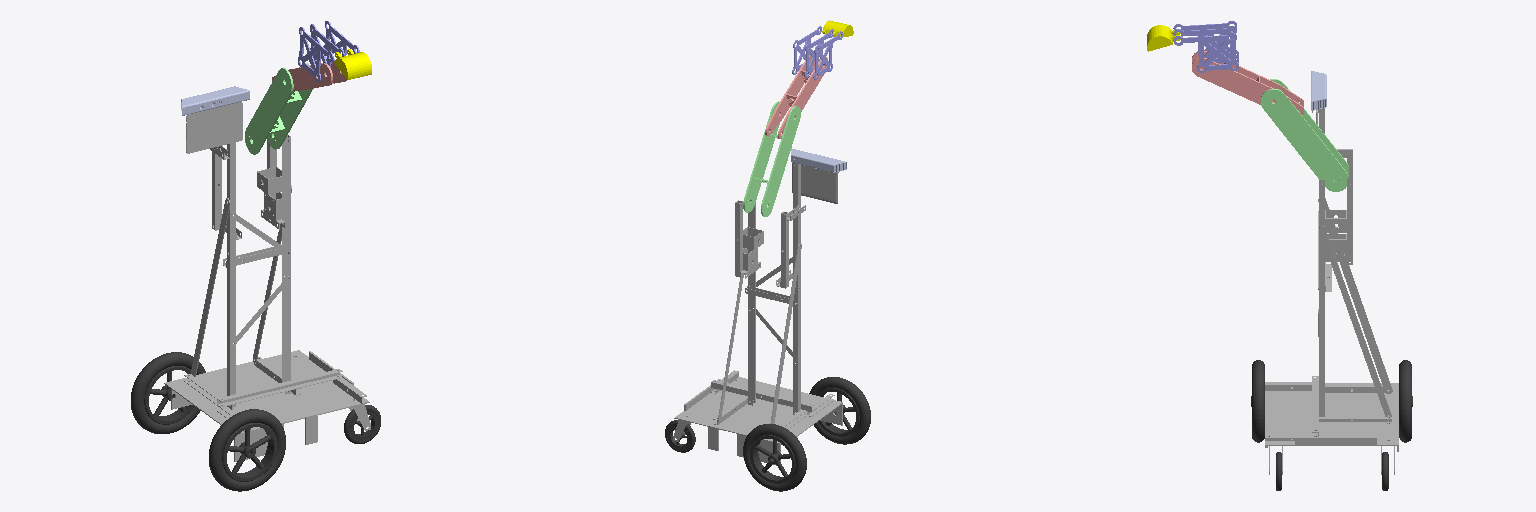
robot.urdf — fedar:

<robot
  name="fedar">
  <link
    name="base_link">
    <inertial>
      <origin
        xyz="-0.046264 0.28187 0.0076913"
        rpy="0 0 0" />
      <mass
        value="10.987" />
      <inertia
        ixx="1.7088"
        ixy="-0.16847"
        ixz="-0.0063516"
        iyy="0.42468"
        iyz="0.02647"
        izz="1.7946" />
    </inertial>
    <visual>
      <origin
        xyz="0 0 0"
        rpy="0 0 0" />
      <geometry>
        <mesh
          filename="package://fedar/meshes/base_link.STL" />
      </geometry>
      <material
        name="">
        <color
          rgba="0.75294 0.75294 0.75294 1" />
      </material>
    </visual>
    <collision>
      <origin
        xyz="0 0 0"
        rpy="0 0 0" />
      <geometry>
        <mesh
          filename="package://fedar/meshes/base_link.STL" />
      </geometry>
    </collision>
  </link>
  <link
    name="left_drive_wheel_link">
    <inertial>
      <origin
        xyz="-0.026967 5.5273E-10 -1.0367E-09"
        rpy="0 0 0" />
      <mass
        value="2.1634" />
      <inertia
        ixx="0.032586"
        ixy="2.9603E-12"
        ixz="9.9332E-11"
        iyy="0.016643"
        iyz="-1.5958E-10"
        izz="0.016643" />
    </inertial>
    <visual>
      <origin
        xyz="0 0 0"
        rpy="0 0 0" />
      <geometry>
        <mesh
          filename="package://fedar/meshes/left_drive_wheel_link.STL" />
      </geometry>
      <material
        name="">
        <color
          rgba="0.29412 0.29412 0.29412 1" />
      </material>
    </visual>
    <collision>
      <origin
        xyz="0 0 0"
        rpy="0 0 0" />
      <geometry>
        <mesh
          filename="package://fedar/meshes/left_drive_wheel_link.STL" />
      </geometry>
    </collision>
  </link>
  <joint
    name="left_drive_wheel_joint"
    type="continuous">
    <origin
      xyz="-0.24 -0.249 -0.055"
      rpy="1.5708 6.123E-17 1.5708" />
    <parent
      link="base_link" />
    <child
      link="left_drive_wheel_link" />
    <axis
      xyz="1 0 0" />
  </joint>
  <link
    name="right_drive_wheel_link">
    <inertial>
      <origin
        xyz="0.0270334407669869 5.52729494118775E-10 -1.03672306850378E-09"
        rpy="0 0 0" />
      <mass
        value="2.16344839685526" />
      <inertia
        ixx="0.0325861513561255"
        ixy="2.9603479359812E-12"
        ixz="9.93315789171524E-11"
        iyy="0.0166433812823134"
        iyz="-1.59581006700158E-10"
        izz="0.0166433811644508" />
    </inertial>
    <visual>
      <origin
        xyz="0 0 0"
        rpy="0 0 0" />
      <geometry>
        <mesh
          filename="package://fedar/meshes/right_drive_wheel_link.STL" />
      </geometry>
      <material
        name="">
        <color
          rgba="0.294117647058824 0.294117647058824 0.294117647058824 1" />
      </material>
    </visual>
    <collision>
      <origin
        xyz="0 0 0"
        rpy="0 0 0" />
      <geometry>
        <mesh
          filename="package://fedar/meshes/right_drive_wheel_link.STL" />
      </geometry>
    </collision>
  </link>
  <joint
    name="right_drive_wheel_joint"
    type="continuous">
    <origin
      xyz="-0.24 0.249 -0.055"
      rpy="1.5708 6.123E-17 1.5708" />
    <parent
      link="base_link" />
    <child
      link="right_drive_wheel_link" />
    <axis
      xyz="1 0 0" />
  </joint>
  <link
    name="left_trolley_wheel_bracket_link">
    <inertial>
      <origin
        xyz="0.0247635408908801 0.0818790644900511 -8.32667268468867E-17"
        rpy="0 0 0" />
      <mass
        value="0.0275781208850641" />
      <inertia
        ixx="4.49789834181829E-05"
        ixy="-1.24410071792927E-05"
        ixz="1.01594092944541E-20"
        iyy="2.08578618373714E-05"
        iyz="-1.97182783543518E-20"
        izz="4.21017425184769E-05" />
    </inertial>
    <visual>
      <origin
        xyz="0 0 0"
        rpy="0 0 0" />
      <geometry>
        <mesh
          filename="package://fedar/meshes/left_trolley_wheel_bracket_link.STL" />
      </geometry>
      <material
        name="">
        <color
          rgba="0.752941176470588 0.752941176470588 0.752941176470588 1" />
      </material>
    </visual>
    <collision>
      <origin
        xyz="0 0 0"
        rpy="0 0 0" />
      <geometry>
        <mesh
          filename="package://fedar/meshes/left_trolley_wheel_bracket_link.STL" />
      </geometry>
    </collision>
  </link>
  <joint
    name="left_trolley_wheel_bracket_joint"
    type="continuous">
    <origin
      xyz="0.22374 -0.21 -0.115"
      rpy="1.5708 0 0" />
    <parent
      link="base_link" />
    <child
      link="left_trolley_wheel_bracket_link" />
    <axis
      xyz="0 -1 0" />
  </joint>
  <link
    name="left_trolley_wheel_link">
    <inertial>
      <origin
        xyz="-0.0104923842827915 5.3143839329195E-10 1.28055210879552E-09"
        rpy="0 0 0" />
      <mass
        value="0.29264656535805" />
      <inertia
        ixx="0.000978801985309353"
        ixy="-4.80647721975069E-13"
        ixz="-3.6446409811643E-12"
        iyy="0.000502580759463228"
        iyz="-8.11291518075436E-12"
        izz="0.000502580756909004" />
    </inertial>
    <visual>
      <origin
        xyz="0 0 0"
        rpy="0 0 0" />
      <geometry>
        <mesh
          filename="package://fedar/meshes/left_trolley_wheel_link.STL" />
      </geometry>
      <material
        name="">
        <color
          rgba="0.294117647058824 0.294117647058824 0.294117647058824 1" />
      </material>
    </visual>
    <collision>
      <origin
        xyz="0 0 0"
        rpy="0 0 0" />
      <geometry>
        <mesh
          filename="package://fedar/meshes/left_trolley_wheel_link.STL" />
      </geometry>
    </collision>
  </link>
  <joint
    name="left_trolley_wheel_joint"
    type="continuous">
    <origin
      xyz="0.05151 0.01 0"
      rpy="0 -1.5708 0" />
    <parent
      link="left_trolley_wheel_bracket_link" />
    <child
      link="left_trolley_wheel_link" />
    <axis
      xyz="-1 0 0" />
  </joint>

  <link
    name="right_trolley_wheel_bracket_link">
    <inertial>
      <origin
        xyz="0.0135069472412436 -0.0331209355099489 -8.32667268468867E-17"
        rpy="0 0 0" />
      <mass
        value="0.0275781208850641" />
      <inertia
        ixx="4.49789834181828E-05"
        ixy="-1.24410071792927E-05"
        ixz="1.41074330389317E-20"
        iyy="2.08578618373713E-05"
        iyz="6.76613231629152E-21"
        izz="4.21017425184768E-05" />
    </inertial>
    <visual>
      <origin
        xyz="0 0 0"
        rpy="0 0 0" />
      <geometry>
        <mesh
          filename="package://fedar/meshes/right_trolley_wheel_bracket_link.STL" />
      </geometry>
      <material
        name="">
        <color
          rgba="0.752941176470588 0.752941176470588 0.752941176470588 1" />
      </material>
    </visual>
    <collision>
      <origin
        xyz="0 0 0"
        rpy="0 0 0" />
      <geometry>
        <mesh
          filename="package://fedar/meshes/right_trolley_wheel_bracket_link.STL" />
      </geometry>
    </collision>
  </link>
  <joint
    name="right_trolley_wheel_bracket_joint"
    type="continuous">
    <origin
      xyz="0.235 0.21 0"
      rpy="1.5708 0 0" />
    <parent
      link="base_link" />
    <child
      link="right_trolley_wheel_bracket_link" />
    <axis
      xyz="0 -1 0" />
  </joint>
  <link
    name="right_trolley_wheel_link">
    <inertial>
      <origin
        xyz="-0.0104923842827914 -5.31438337780799E-10 -1.28055210879552E-09"
        rpy="0 0 0" />
      <mass
        value="0.29264656535805" />
      <inertia
        ixx="0.000978801985309353"
        ixy="4.80647808889687E-13"
        ixz="3.64464071291266E-12"
        iyy="0.000502580759463228"
        iyz="-8.1129151113064E-12"
        izz="0.000502580756909004" />
    </inertial>
    <visual>
      <origin
        xyz="0 0 0"
        rpy="0 0 0" />
      <geometry>
        <mesh
          filename="package://fedar/meshes/right_trolley_wheel_link.STL" />
      </geometry>
      <material
        name="">
        <color
          rgba="0.294117647058824 0.294117647058824 0.294117647058824 1" />
      </material>
    </visual>
    <collision>
      <origin
        xyz="0 0 0"
        rpy="0 0 0" />
      <geometry>
        <mesh
          filename="package://fedar/meshes/right_trolley_wheel_link.STL" />
      </geometry>
    </collision>
  </link>
  <joint
    name="right_trolley_wheel_joint"
    type="continuous">
    <origin
      xyz="0.040253 -0.105 0"
      rpy="2.7485 1.5708 0" />
    <parent
      link="right_trolley_wheel_bracket_link" />
    <child
      link="right_trolley_wheel_link" />
    <axis
      xyz="1 0 0" />
  </joint>

  <link
    name="upper_arm_link">
    <inertial>
      <origin
        xyz="0.20011 2.857E-10 0.0065338"
        rpy="0 0 0" />
      <mass
        value="0.81497" />
      <inertia
        ixx="0.0021672"
        ixy="6.1685E-12"
        ixz="-1.3371E-11"
        iyy="0.01654"
        iyz="2.7308E-12"
        izz="0.015662" />
    </inertial>
    <visual>
      <origin
        xyz="0 0 0"
        rpy="0 0 0" />
      <geometry>
        <mesh
          filename="package://fedar/meshes/upper_arm_link.STL" />
      </geometry>
      <material
        name="">
        <color
          rgba="0.69804 1 0.69804 1" />
      </material>
    </visual>
    <collision>
      <origin
        xyz="0 0 0"
        rpy="0 0 0" />
      <geometry>
        <mesh
          filename="package://fedar/meshes/upper_arm_link.STL" />
      </geometry>
    </collision>
  </link>
  <joint
    name="upper_arm_joint"
    type="revolute">
    <origin
      xyz="0 0.015 0.9915"
      rpy="1.5708 -0.94746 -1.5708" />
    <parent
      link="base_link" />
    <child
      link="upper_arm_link" />
    <axis
      xyz="0 0 1" />
    <limit
      effort="0"
      velocity="0"
      lower="-0.05"
      upper="1.435"
    />
  </joint>
  <link
    name="lower_arm_link">
    <inertial>
      <origin
        xyz="-0.090 0.390 0.028466"
        rpy="0 0 0" />
      <mass
        value="0.56692" />
      <inertia
        ixx="0.00081497"
        ixy="-3.907E-11"
        ixz="-4.0337E-18"
        iyy="0.0089538"
        iyz="-3.238E-18"
        izz="0.0087119" />
    </inertial>
    <visual>
      <origin
        xyz="-0.090 0.390 0.028466"
        rpy="0 0 0" />
      <geometry>
        <mesh
          filename="package://fedar/meshes/lower_arm_link.STL" />
      </geometry>
      <material
        name="">
        <color
          rgba="1 0.69804 0.69804 1" />
      </material>
    </visual>
    <collision>
      <origin
        xyz="-0.090 0.390 0.028466"
        rpy="0 0 0" />
      <geometry>
        <mesh
          filename="package://fedar/meshes/lower_arm_link.STL" />
      </geometry>
    </collision>
  </link>
  <joint
    name="lower_arm_joint"
    type="revolute">
    <origin
      xyz="0.4 0 0"
      rpy="-3.1416 7.8846E-16 -1.3449" />
    <parent
      link="upper_arm_link" />
    <child
      link="lower_arm_link" />
    <axis
      xyz="0 0 -1" />
    <limit
      effort="0"
      velocity="0"
      lower="0.1198"
      upper="1.6"
    />
  </joint>
  <link
    name="wrist_link">
    <inertial>
      <origin
        xyz="-0.534 0.1385 -0.035"
        rpy="0 0 0" />
      <mass
        value="0.25868" />
      <inertia
        ixx="0.0013374"
        ixy="-0.00017264"
        ixz="1.3162E-06"
        iyy="0.0010488"
        iyz="1.7858E-06"
        izz="0.0014236" />
    </inertial>
    <visual>
      <origin
        xyz="-0.534 0.1385 -0.035"
        rpy="0 0 0" />
      <geometry>
        <mesh
          filename="package://fedar/meshes/wrist_link.STL" />
      </geometry>
      <material
        name="">
        <color
          rgba="0.69804 0.69804 1 1" />
      </material>
    </visual>
    <collision>
      <origin
        xyz="-0.534 0.1385 -0.035"
        rpy="0 0 0" />
      <geometry>
        <mesh
          filename="package://fedar/meshes/wrist_link.STL" />
      </geometry>
    </collision>
  </link>
  <joint
    name="wrist_joint"
    type="revolute">
    <origin
      xyz="0.30 0 0"
      rpy="-3.1416 0 -1.0395" />
    <parent
      link="lower_arm_link" />
    <child
      link="wrist_link" />
    <axis
      xyz="0 0 1" />
    <limit
      effort="0"
      velocity="0"
      lower="-1.2"
      upper="0.57"
    />
  </joint>
  <link
    name="scoop_link">
    <inertial>
      <origin
        xyz="0.057 -0.687 0.03"
        rpy="0 0 0" />
      <mass
        value="0.12076" />
      <inertia
        ixx="0.00017125"
        ixy="-1.4964E-05"
        ixz="1.4017E-07"
        iyy="0.00029604"
        iyz="-3.6776E-08"
        izz="0.00017855" />
    </inertial>
    <visual>
      <origin
        xyz="0.057 -0.687 0.03"
        rpy="0 0 0" />
      <geometry>
        <mesh
          filename="package://fedar/meshes/scoop_link.STL" />
      </geometry>
      <material
        name="">
        <color
          rgba="1 1 0 1" />
      </material>
    </visual>
    <collision>
      <origin
        xyz="0.057 -0.687 0.03"
        rpy="0 0 0" />
      <geometry>
        <mesh
          filename="package://fedar/meshes/scoop_link.STL" />
      </geometry>
    </collision>
  </link>
  <joint
    name="scoop_joint"
    type="revolute">
    <origin
      xyz="0.12 -0.08 0"
      rpy="3.1416 0 1.3313" />
    <parent
      link="wrist_link" />
    <child
      link="scoop_link" />
    <axis
      xyz="0 0 -1" />
    <limit
      lower="-1.8025"
      upper="2.5957"
      effort="0"
      velocity="0" />
  </joint>
  <link
    name="camera_link">
    <inertial>
      <origin
        xyz="0.00019514 0.018811 0.0010567"
        rpy="1.5708 0 1.5708" />
      <mass
        value="0.54554" />
      <inertia
        ixx="0.00022589"
        ixy="3.4601E-08"
        ixz="2.5661E-06"
        iyy="0.0028794"
        iyz="-1.4752E-07"
        izz="0.00279" />
    </inertial>
    <visual>
      <origin
        xyz="0 0 0"
        rpy="1.5708 0 1.5708" />
      <geometry>
        <mesh
          filename="package://fedar/meshes/camera_link.STL" />
      </geometry>
      <material
        name="">
        <color
          rgba="0.79216 0.81961 0.93333 1" />
      </material>
    </visual>
    <collision>
      <origin
        xyz="0 0 0"
        rpy="1.5708 0 1.5708" />
      <geometry>
        <mesh
          filename="package://fedar/meshes/camera_link.STL" />
      </geometry>
    </collision>
  </link>
  <joint
    name="camera_joint"
    type="fixed">
    <origin
      xyz="-0.25453 -0.05 1.204"
      rpy="0 0 -1.5708" />
    <parent
      link="base_link" />
    <child
      link="camera_link" />
    <axis
      xyz="0 0 0" />
  </joint>
</robot>

--- Render facts (derived) ---
The picture shows the robot from 3 angles, left to right: view 1: azimuth 30°, elevation 25°; view 2: azimuth 150°, elevation 25°; view 3: azimuth 270°, elevation 25°; orthographic projection.
Robot: fedar — 12 links, 11 joints (4 revolute, 6 continuous, 1 fixed); root link base_link; default pose: joints at zero except 1 at the middle of their limits (lower_arm_joint = 0.8599).
Links seen in each view (by area): view 1: base_link, left_drive_wheel_link, right_drive_wheel_link, upper_arm_link, wrist_link, camera_link, lower_arm_link, left_trolley_wheel_link, scoop_link; view 2: base_link, right_drive_wheel_link, upper_arm_link, left_drive_wheel_link, lower_arm_link, wrist_link, camera_link, right_trolley_wheel_link; view 3: base_link, upper_arm_link, wrist_link, lower_arm_link, left_drive_wheel_link, right_drive_wheel_link, camera_link, scoop_link.
Link boxes in pixels (x1,y1,x2,y2): base_link: [164, 102, 369, 461]; left_drive_wheel_link: [209, 409, 285, 491]; right_drive_wheel_link: [131, 352, 205, 433]; upper_arm_link: [245, 63, 313, 154]; wrist_link: [298, 21, 359, 81]; camera_link: [181, 86, 249, 115]; lower_arm_link: [272, 61, 346, 91]; left_trolley_wheel_link: [344, 405, 380, 443]; scoop_link: [334, 49, 371, 79]; base_link: [674, 163, 842, 465]; right_drive_wheel_link: [743, 424, 806, 491]; upper_arm_link: [743, 101, 800, 216]; left_drive_wheel_link: [809, 377, 870, 444]; lower_arm_link: [765, 55, 827, 138]; wrist_link: [792, 26, 842, 80]; camera_link: [791, 148, 846, 172]; right_trolley_wheel_link: [665, 420, 695, 452]; base_link: [1265, 108, 1398, 451]; upper_arm_link: [1260, 79, 1348, 191]; wrist_link: [1173, 21, 1238, 72]; lower_arm_link: [1192, 51, 1303, 114]; left_drive_wheel_link: [1251, 360, 1264, 442]; right_drive_wheel_link: [1399, 360, 1412, 442]; camera_link: [1311, 71, 1326, 110]; scoop_link: [1147, 25, 1180, 51].
Size in the robot's own frame: 0.745 by 0.9964 by 1.81 metres.
12 mesh visuals loaded from 12 distinct referenced files (12 binary STL).
